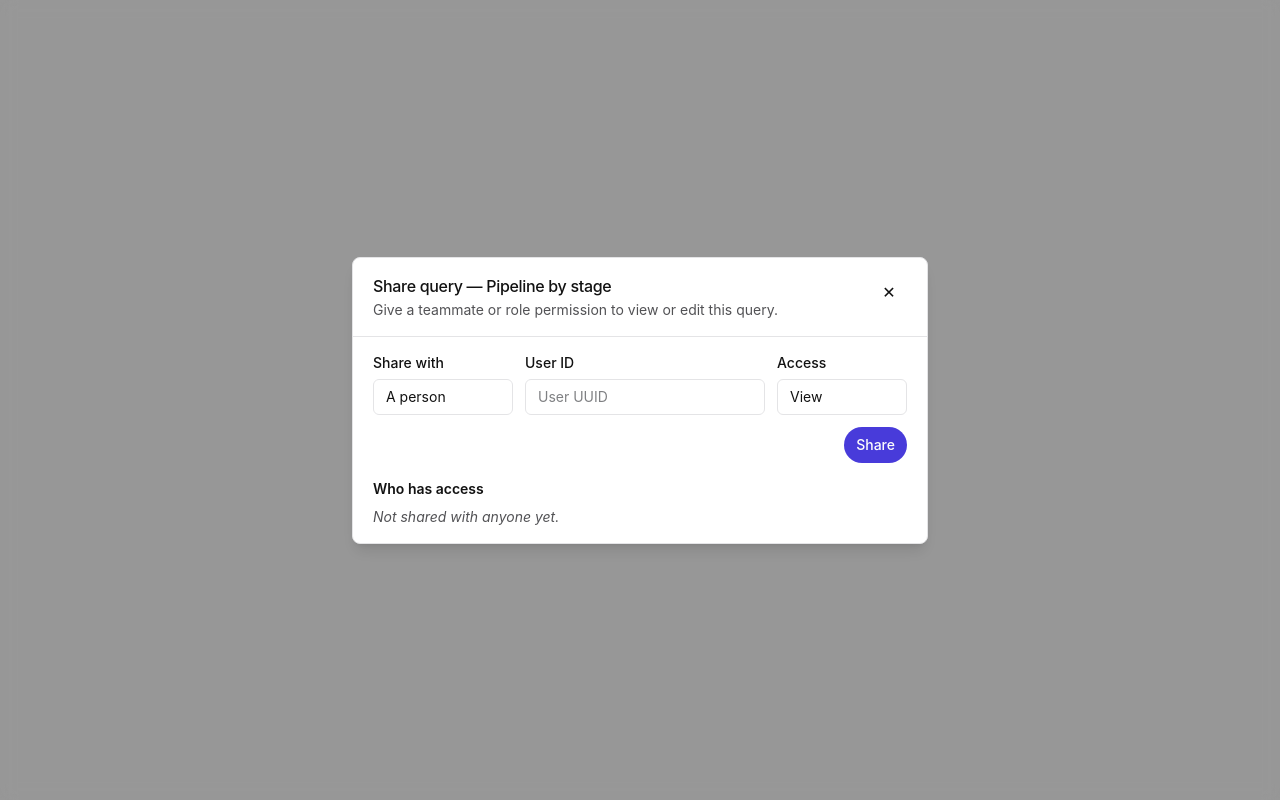
it: ShareModal › blocks submit and shows an inline error when the grantee is empty
Expected: the text "Not shared with anyone yet." is shown, [373,508,559,524]
Click the button "Share": (876, 444) [844,426,907,462]
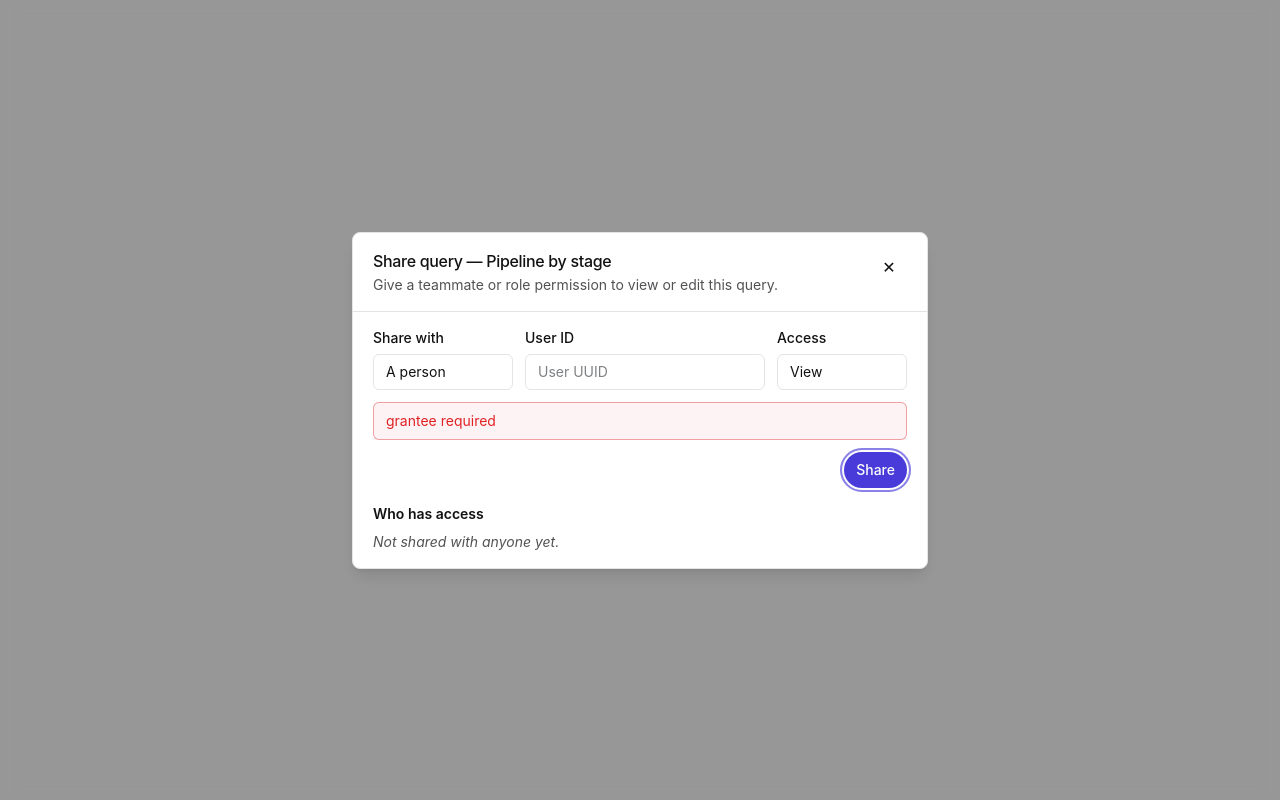
Expected: the text "grantee required" is shown, [373,402,907,440]
